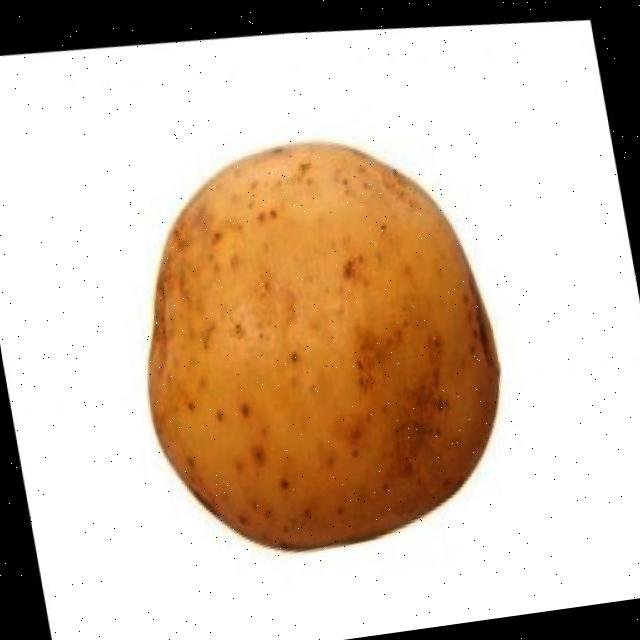Potato: (103, 88, 536, 586)
